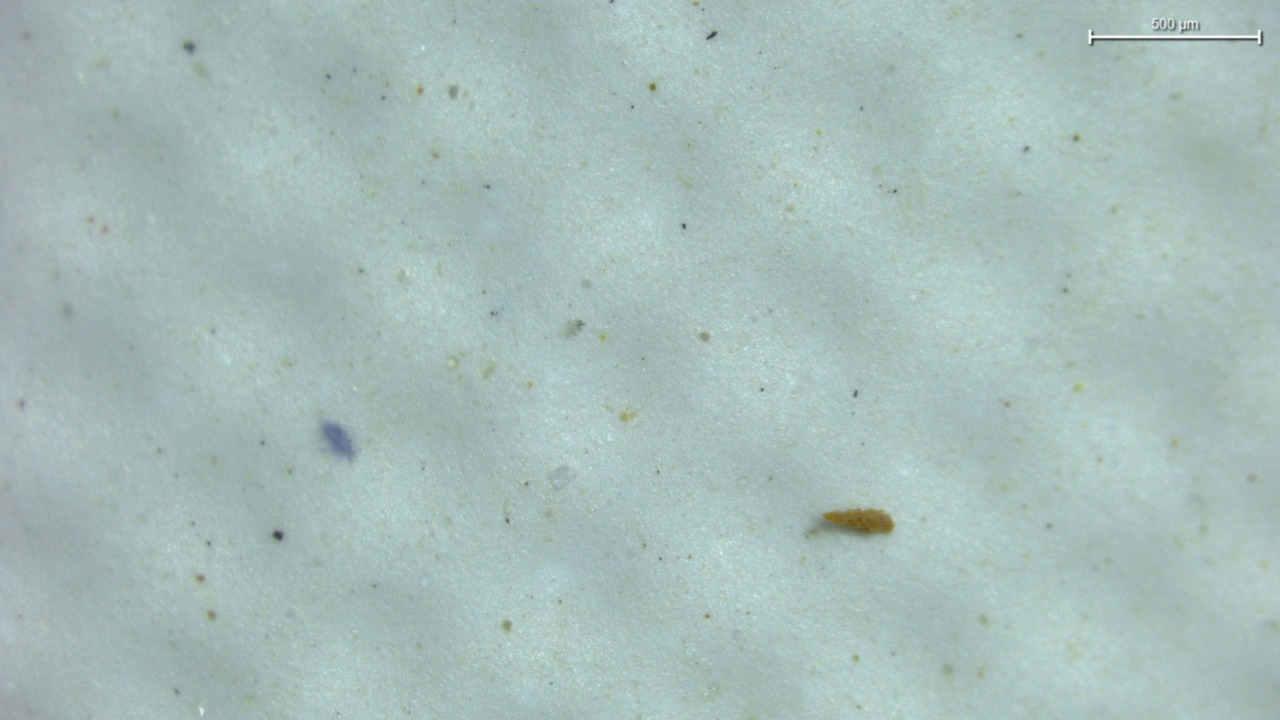microplastic_fragment: (549, 465, 577, 490)
